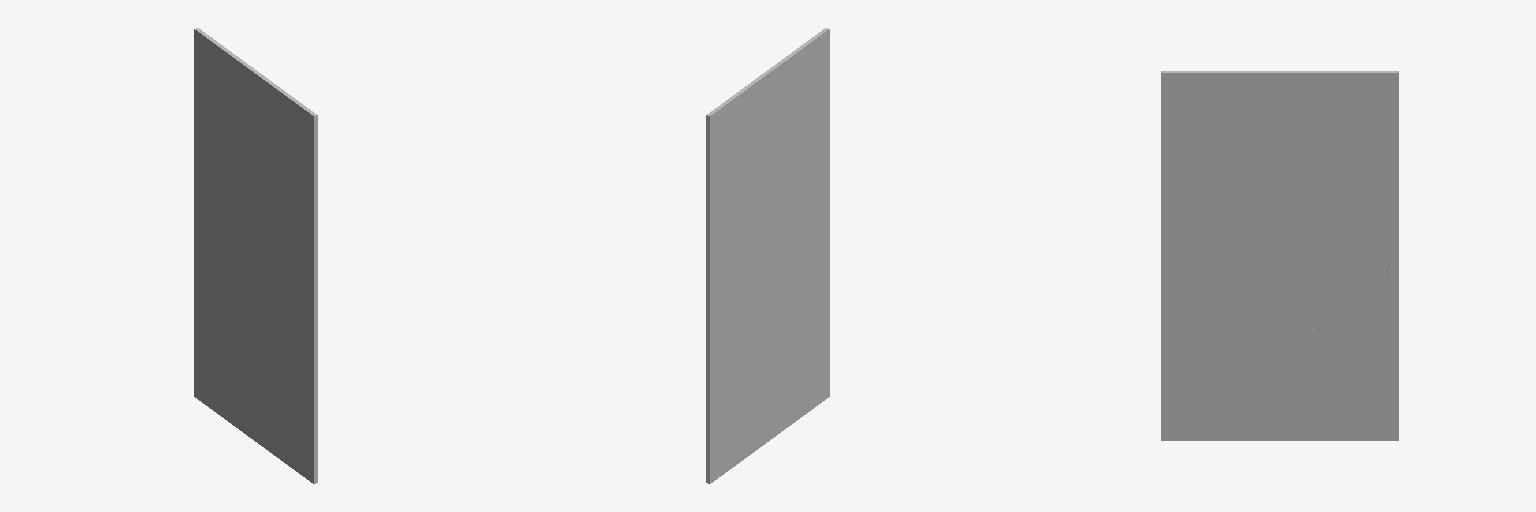
3 views of the same model, side by side, from view 1: azimuth 30°, elevation 25°; view 2: azimuth 150°, elevation 25°; view 3: azimuth 270°, elevation 25° (orthographic).
Parts seen in each view (by area): view 1: back7_zoetrope.361; view 2: back7_zoetrope.361; view 3: back7_zoetrope.361.
Part boxes in pixels (bbox=[...]): back7_zoetrope.361: bbox=[194, 28, 317, 483]; back7_zoetrope.361: bbox=[706, 28, 829, 483]; back7_zoetrope.361: bbox=[1161, 71, 1398, 440].
Size of the model in its own units: 0.0109 by 0.9246 by 0.5439.